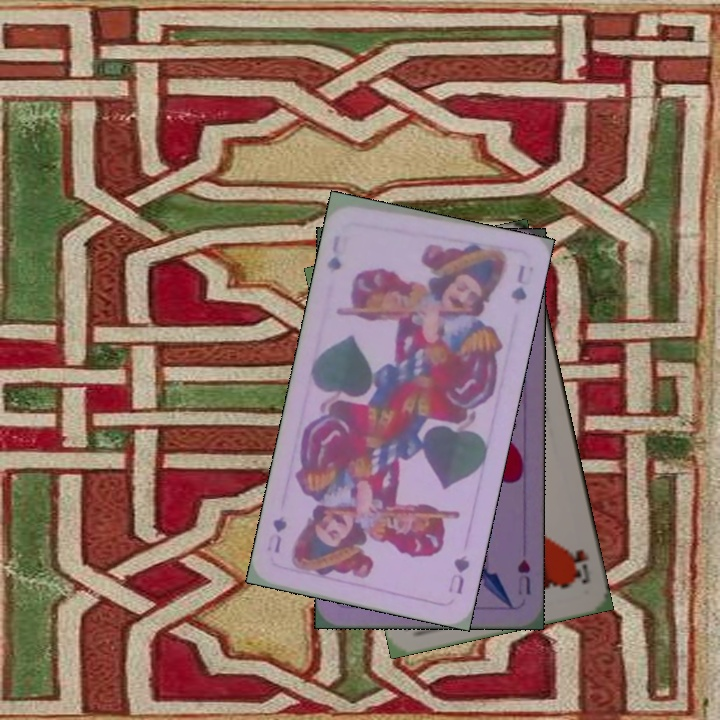GU: (444, 550, 472, 597), (322, 231, 347, 275)
HO: (564, 544, 593, 587)
HU: (513, 556, 533, 598)
